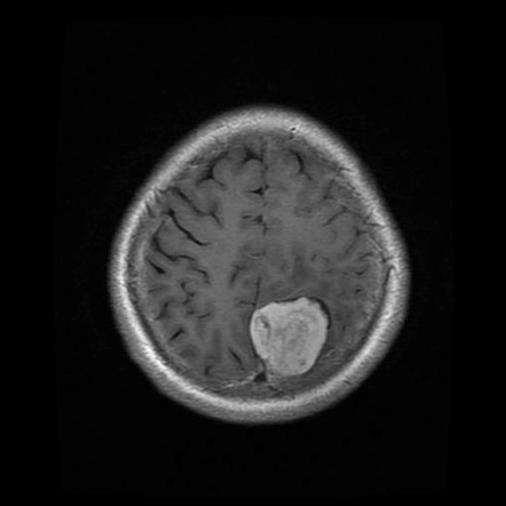Tumour-Meningioma: (234, 294, 344, 396)
